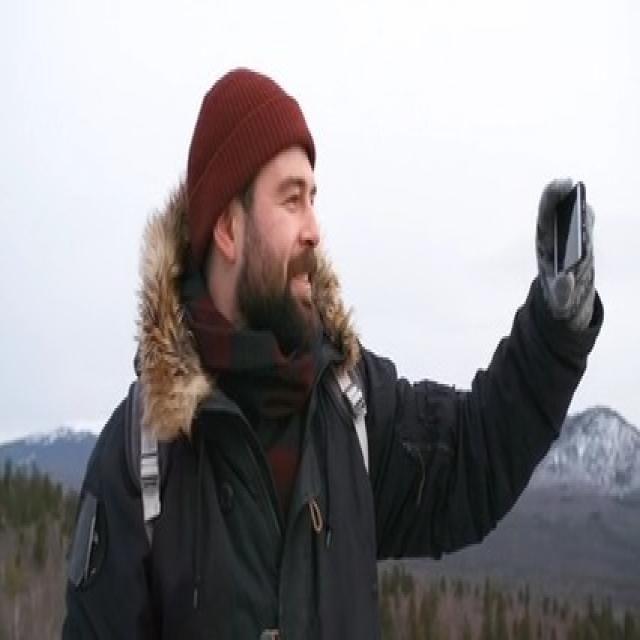Jacket_Wearer: (59, 265, 592, 637)
Person: (45, 61, 599, 640)
